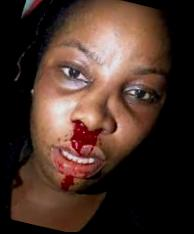Fire: (73, 121, 104, 153), (64, 175, 76, 190)
